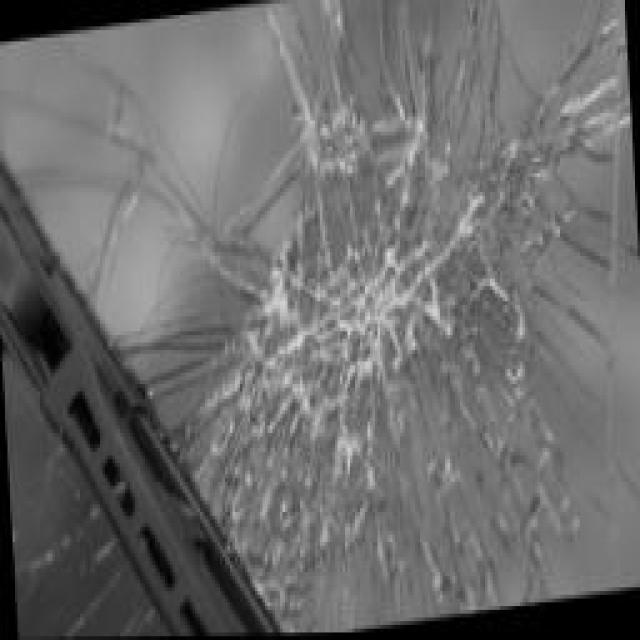Windshield: (22, 0, 640, 640)
